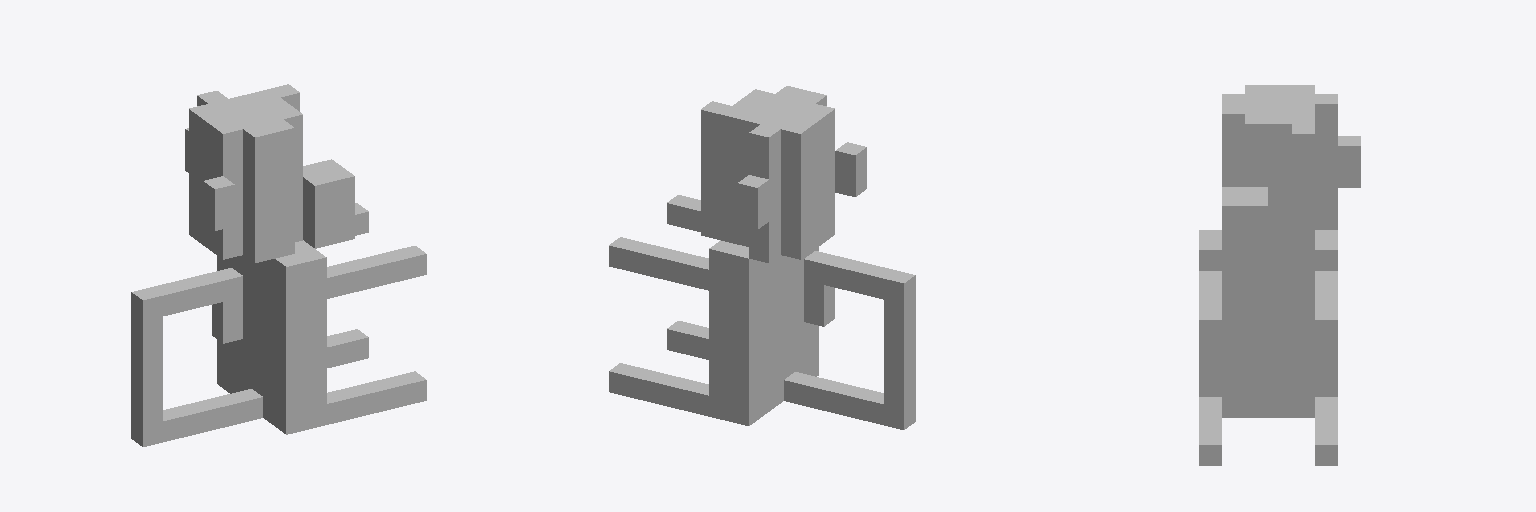
The model's file is monkey.obj.
3 renders of one model, left to right at view 1: azimuth 30°, elevation 25°; view 2: azimuth 150°, elevation 25°; view 3: azimuth 270°, elevation 25°, orthographic.
Parts seen in each view (by area): view 1: object 1; view 2: object 1; view 3: object 1.
Boxes of the visible parts, <box> form: object 1: <box>131,84,426,446</box>; object 1: <box>609,86,915,429</box>; object 1: <box>1199,85,1360,465</box>.
Bounding box in the file's own units: 1.3 × 1.4 × 0.7.